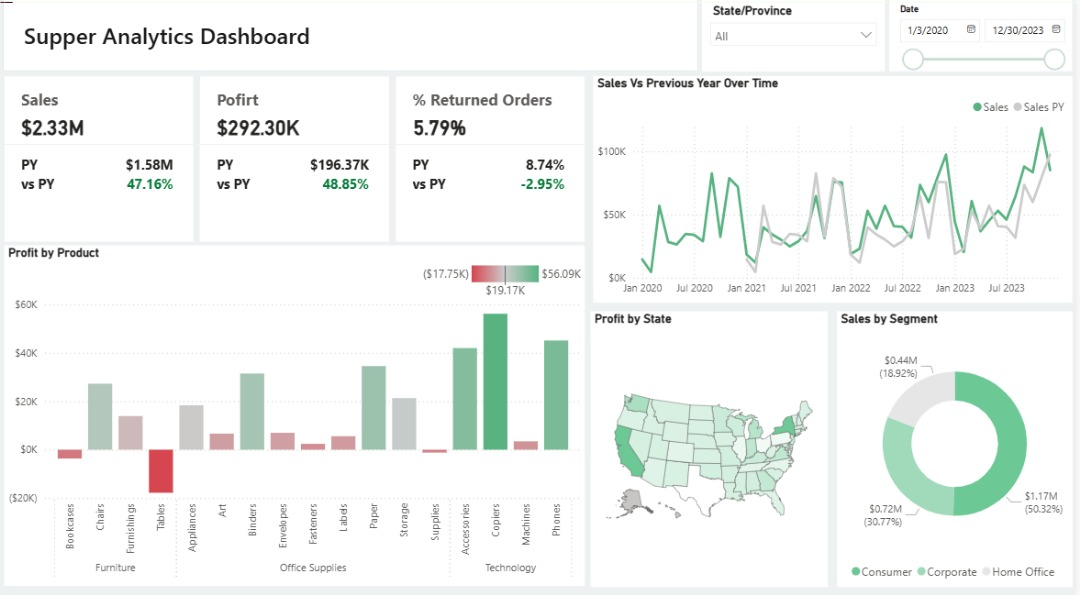

Layout of this report page (visuals, bound fields, positions):
{"tool":"powerbi","page":{"name":"Page 1","canvas":[1280,720],"ordinal":0},"visuals":[{"type":"cardVisual","fields":{"Data":["Key Measures.Sales","Key Measures.Pofirt","Key Measures.% Returned Orders"]},"box":[0,89.5,703.7,208],"z":0},{"type":"shape","box":[3.3,3.3,827.9,86.2],"z":1000},{"type":"clusteredColumnChart","title":"Profit by Product","fields":{"Category":["Orders.Category","Orders.Sub-Category"],"Y":["Key Measures.Pofirt"]},"box":[4.8,297.4,691.6,406.3],"z":2000},{"type":"lineChart","title":"Sales Vs Previous Year Over Time","fields":{"Category":["Date Table.Start of month"],"Y":["Key Measures.Sales","Key Measures.Sales PY"]},"box":[705.9,94.3,570.9,270],"z":3000},{"type":"shapeMap","title":"Profit by State","fields":{"Category":["Orders.State/Province"],"Value":["Key Measures.Pofirt"]},"box":[703.7,374.8,282.9,328.9],"z":4000},{"type":"donutChart","title":"Sales by Segment","fields":{"Category":["Orders.Segment"],"Y":["Key Measures.Sales"]},"box":[996.3,374.8,280.5,328.9],"z":5000},{"type":"slicer","fields":{"Values":["Date Table.Date"]},"box":[1058.9,3.3,218,86.2],"z":5001},{"type":"slicer","fields":{"Values":["Orders.State/Province"]},"box":[836,3.3,218,86.2],"z":5002}]}

Visuals, with their boxes in screenshot pixels (x1, y1, x2, y2), scaled from the page's 1280x720 canvas onto the 1080x595 screenshot:
cardVisual - Key Measures.Sales x Key Measures.Pofirt: <bbox>0, 74, 594, 246</bbox>
shape: <bbox>3, 3, 701, 74</bbox>
"Profit by Product" clusteredColumnChart: <bbox>4, 246, 588, 582</bbox>
"Sales Vs Previous Year Over Time" lineChart: <bbox>596, 78, 1077, 301</bbox>
"Profit by State" shapeMap: <bbox>594, 310, 832, 582</bbox>
"Sales by Segment" donutChart: <bbox>841, 310, 1077, 582</bbox>
slicer - Date Table.Date: <bbox>893, 3, 1077, 74</bbox>
slicer - Orders.State/Province: <bbox>705, 3, 889, 74</bbox>
